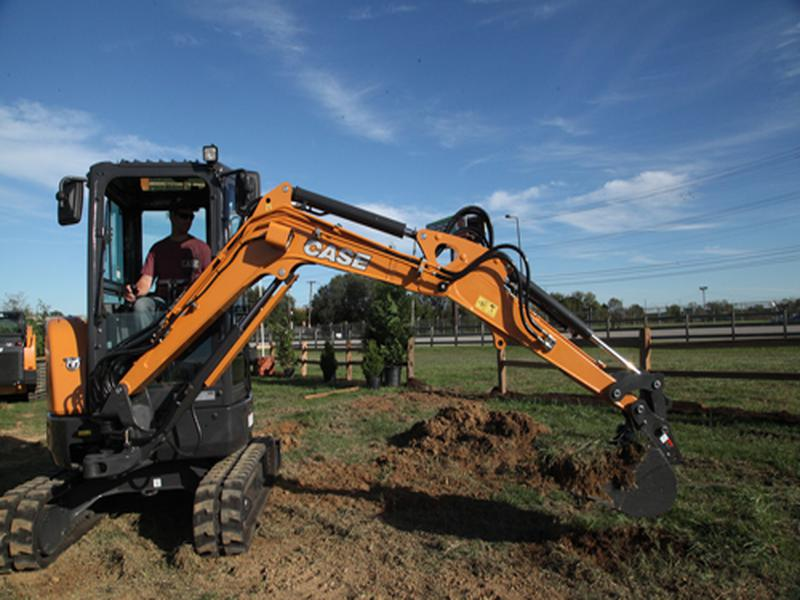shovel: (3, 139, 697, 572)
